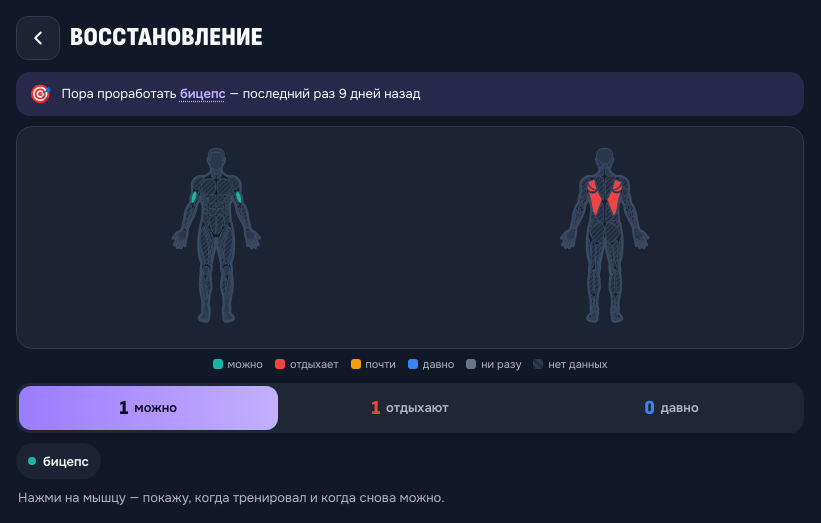
Test case: FreshnessScreen «Восстановление» (v6.3.5) › строка деталей не повторяет группу, совпавшую с названием мышцы
Click the button with class "fr-tip-target" at (203, 94), box [180,73,226,115]
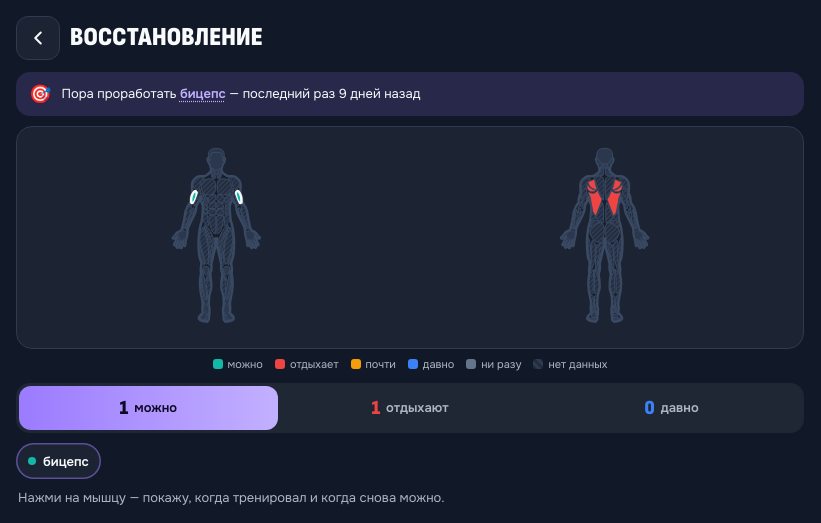
Click the button with class "fr-chip" at (58, 461), box [16,443,101,479]
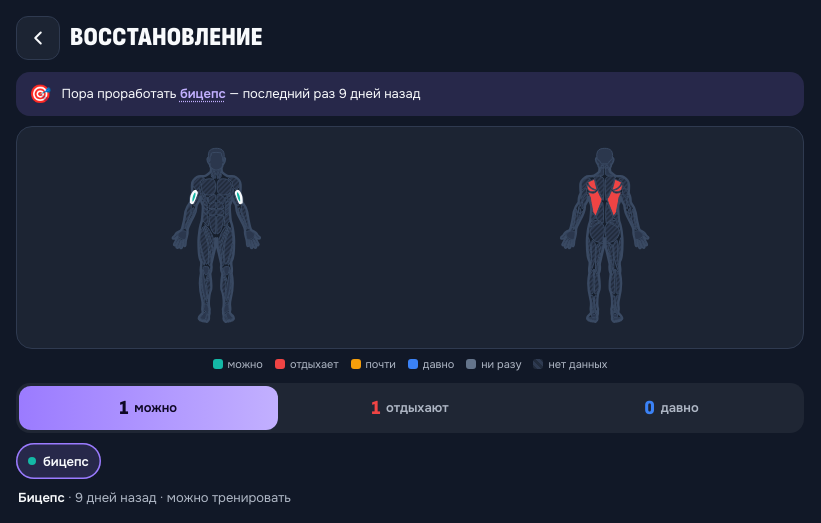
Expected: the element with class "fr-detail" shows "Бицепс ·", [18,489,291,506]
